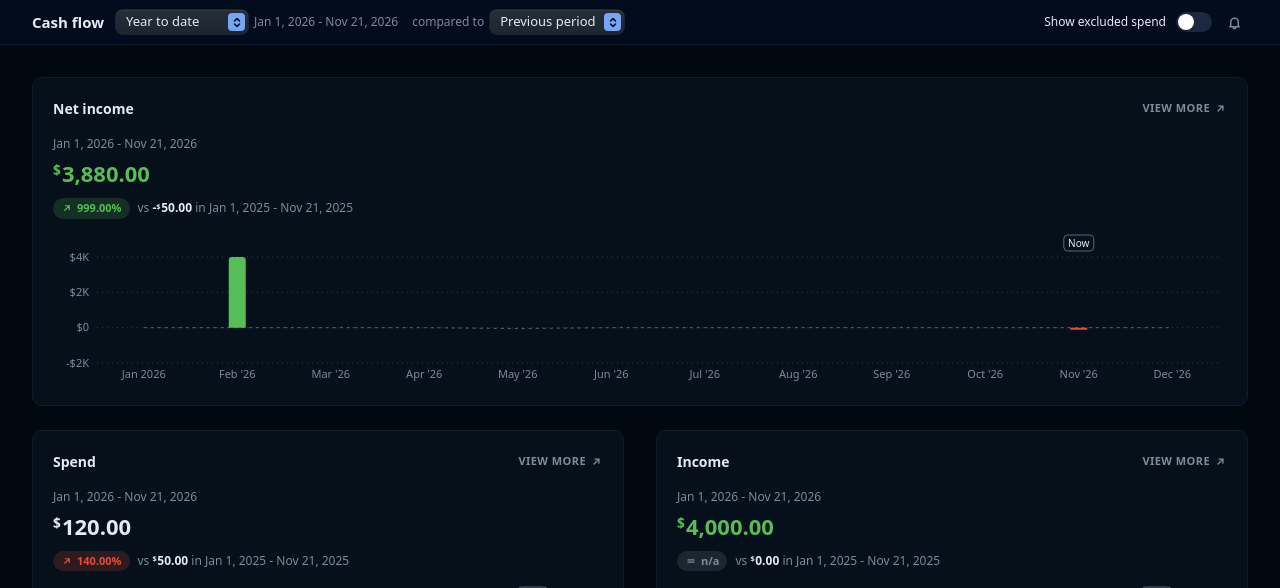
CashflowPage › compares with the previous year when chosen
The image size is (1280, 588).
Expected: the element "Net income" is shown, left=32, top=77, right=1248, bottom=406
Select "This month" in the dropdown named "Period" at (182,22), box left=116, top=10, right=248, bottom=34
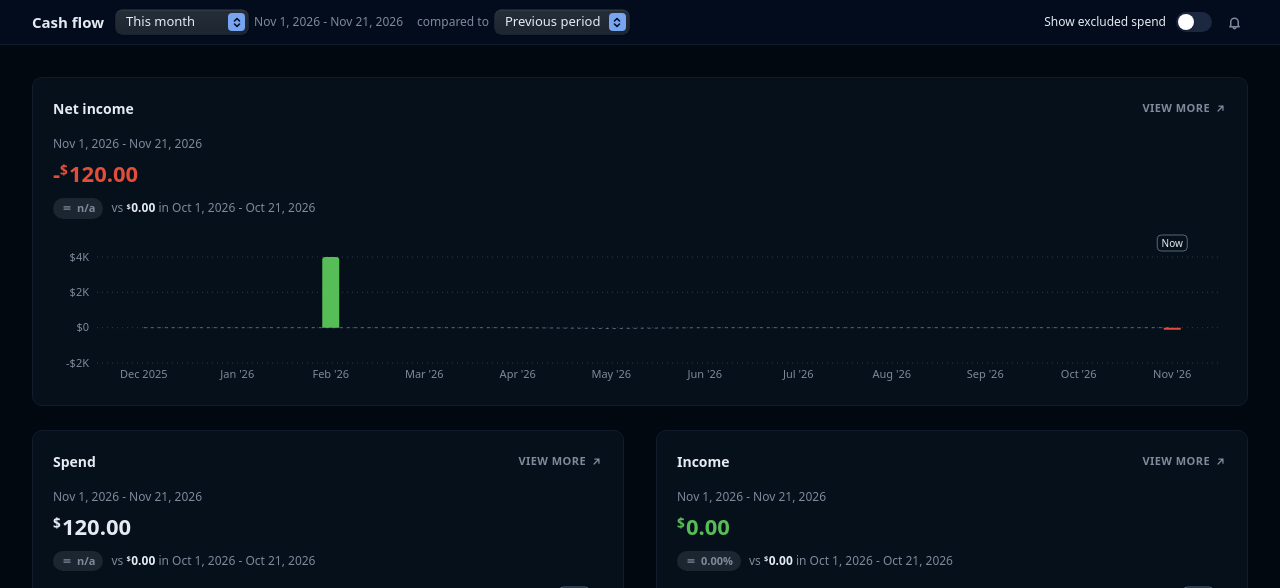
Select "Previous year" in the dropdown named "Compared to" at (562,22), box left=495, top=10, right=629, bottom=34
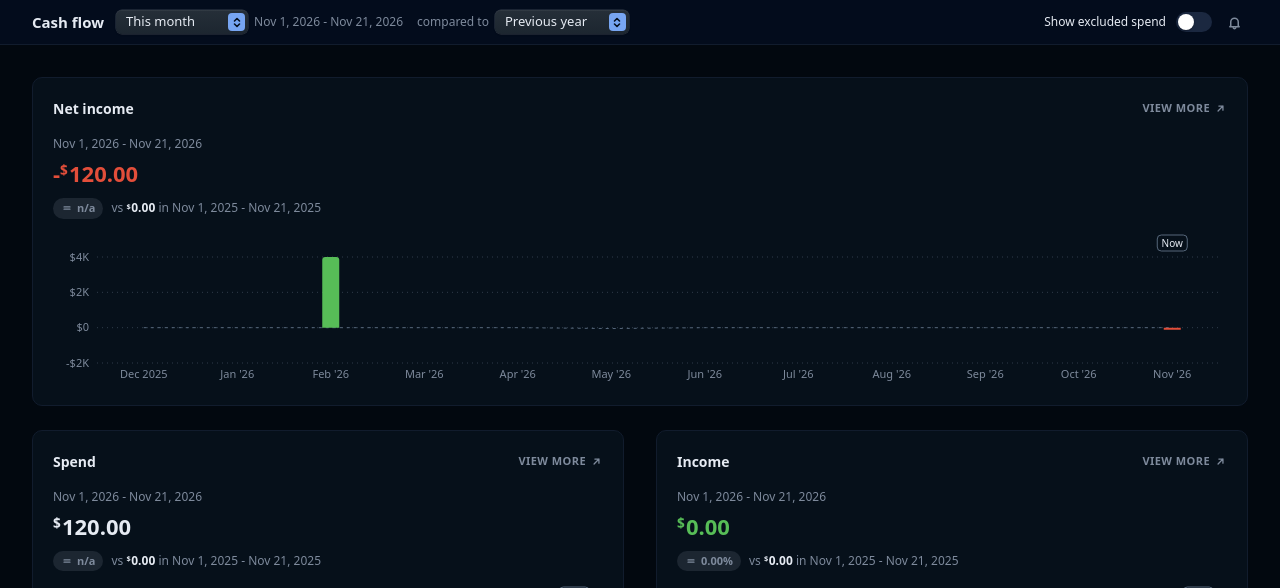
Expected: the element "Net income" shows "in Nov 1, 2025 - Nov 21, 2025", left=32, top=77, right=1248, bottom=406
